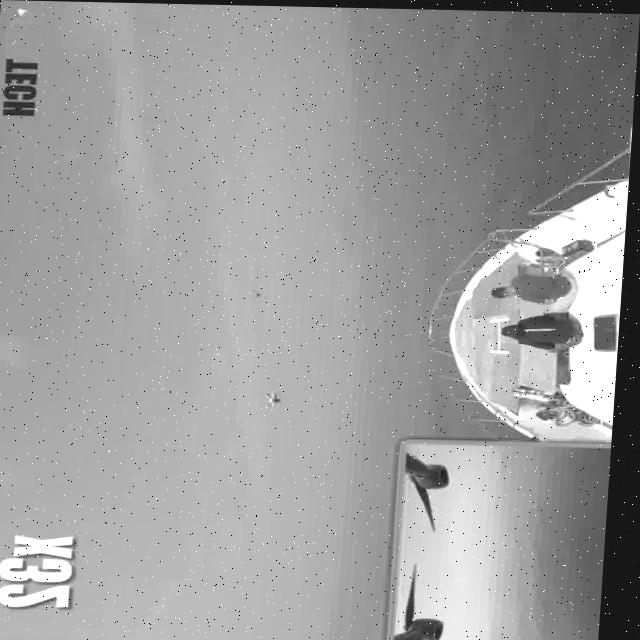drone: (255, 388, 291, 410), (249, 281, 281, 301)
